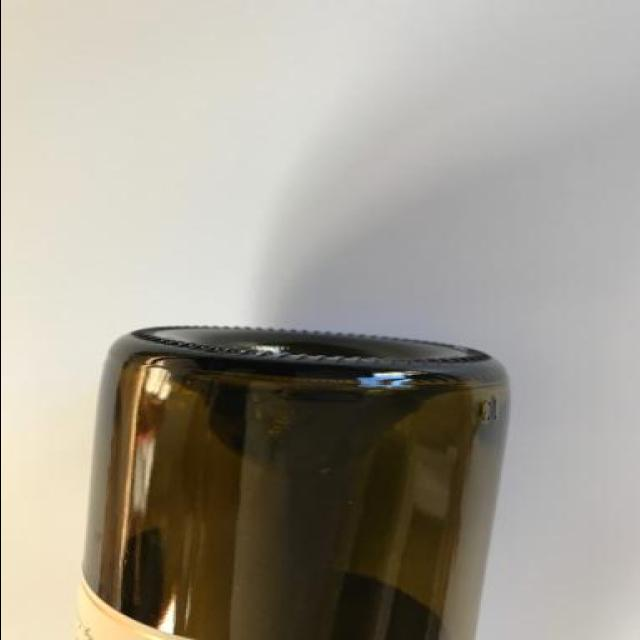glass: (71, 331, 513, 640)
